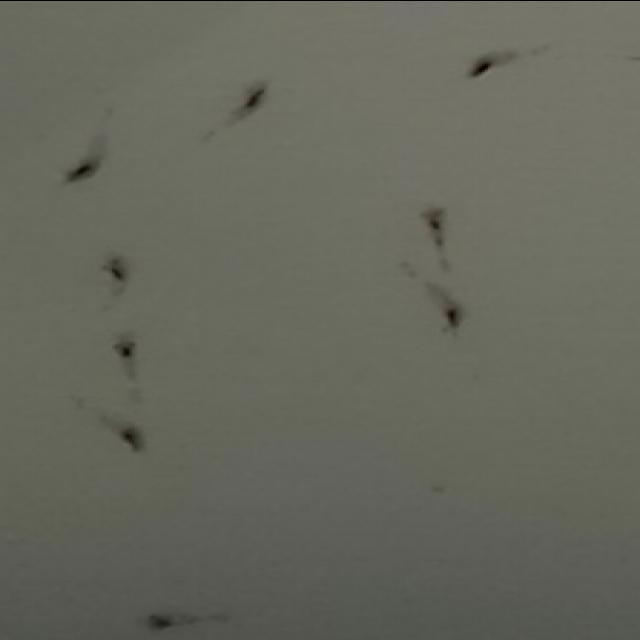shrimp-seed: (59, 154, 105, 190), (97, 248, 139, 282), (237, 80, 279, 114), (434, 302, 476, 336), (109, 330, 147, 362), (420, 202, 458, 234), (115, 419, 147, 454), (140, 610, 180, 633), (465, 54, 499, 80)
